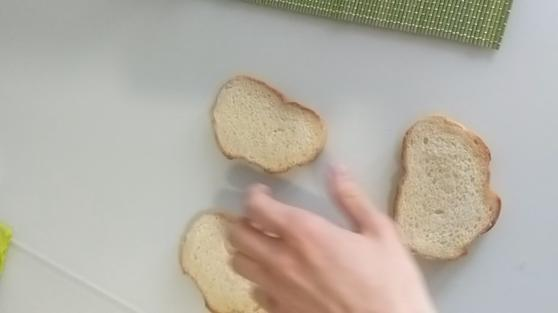white_bread: (399, 113, 512, 262), (214, 70, 323, 179), (172, 207, 265, 313)
